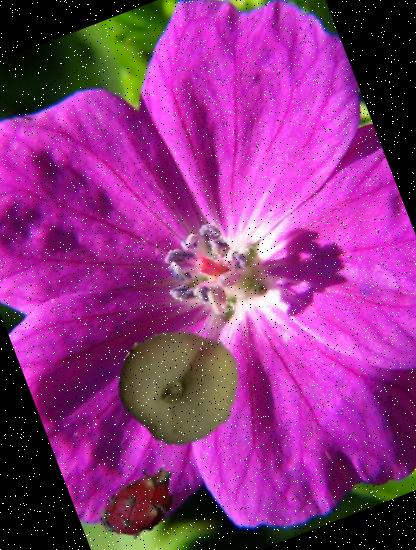Peach: (101, 307, 257, 463)
Pitahaya: (82, 447, 196, 550)
